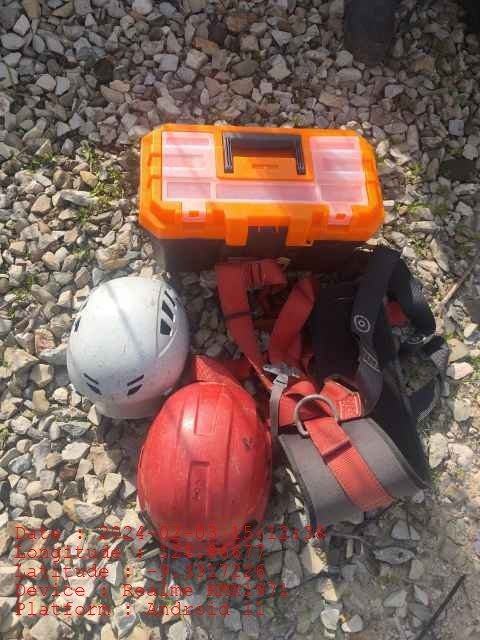HELM: (66, 276, 189, 419)
